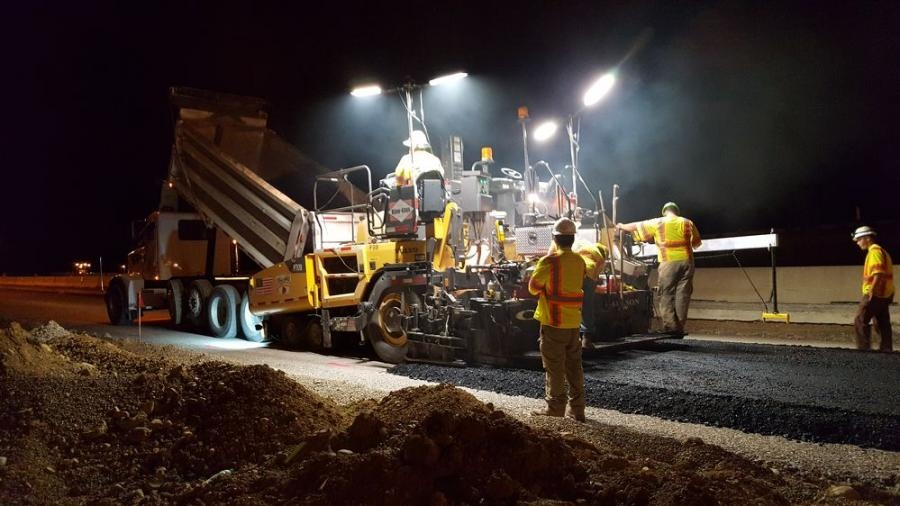white: (549, 217, 578, 249), (851, 222, 874, 250), (409, 129, 428, 151)
yellow: (661, 200, 680, 216)
